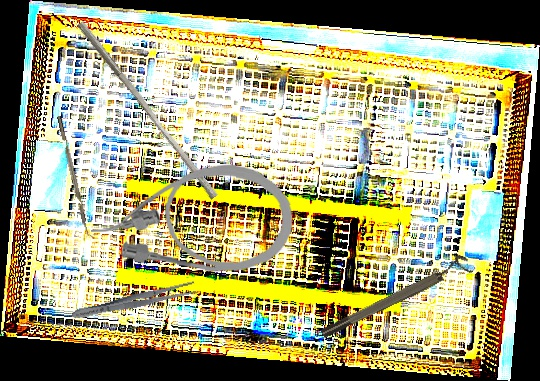Cannula: (90, 159, 294, 276)
Chopper: (56, 114, 96, 240)
Dressing Forceps: (70, 279, 198, 323)
Fixation Ring: (316, 252, 474, 341)
Pusher: (69, 20, 225, 201)
